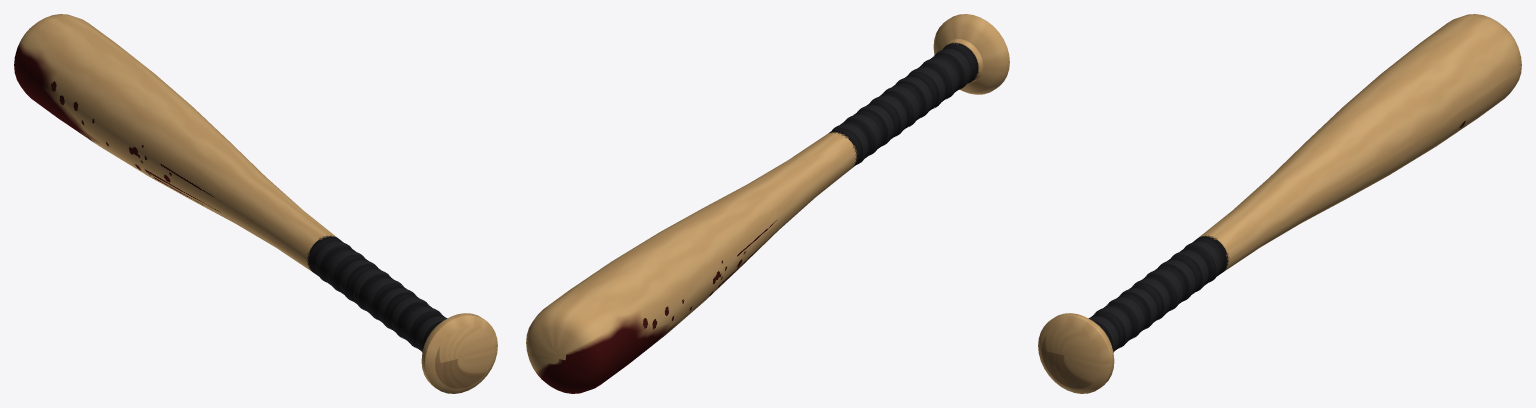
The model's file is blunt_weapon.glb.
3 views of the same model, side by side, from view 1: azimuth 30°, elevation 25°; view 2: azimuth 150°, elevation 25°; view 3: azimuth 330°, elevation 25° (orthographic).
Visible parts, largest first — view 1: blunt_weapon; view 2: blunt_weapon; view 3: blunt_weapon.
Part boxes in pixels (<box>): blunt_weapon: <box>14,14,497,393</box>; blunt_weapon: <box>526,14,1009,393</box>; blunt_weapon: <box>1038,14,1521,393</box>.
Bounding box in the file's own units: 0.07 × 0.07 × 0.62.
2 materials, 1 textured.
